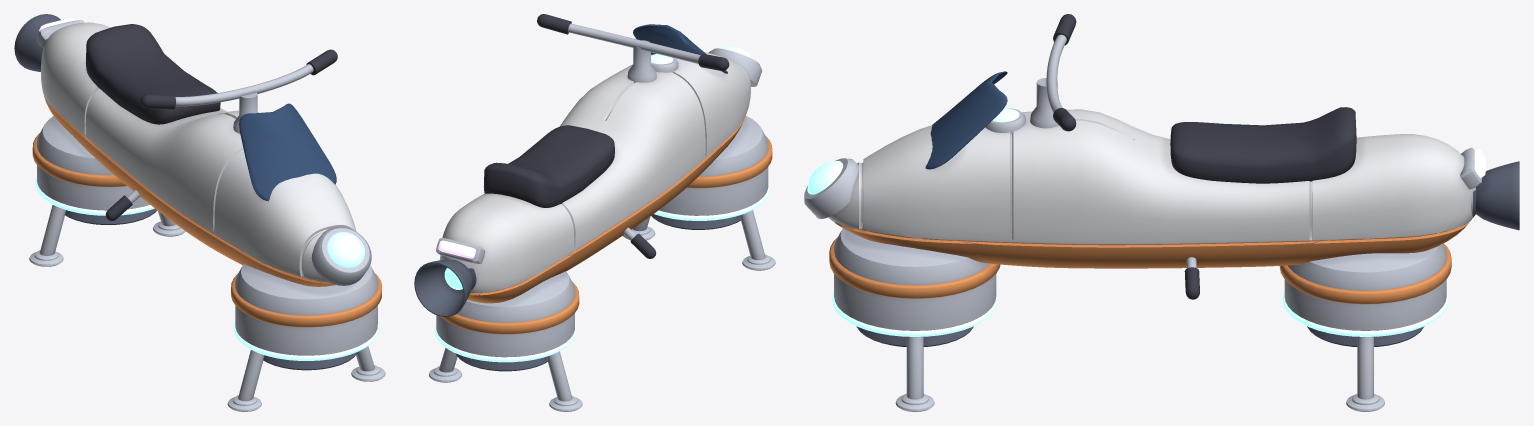
The model's file is hover-bike.glb.
The picture shows the model from 3 angles, left to right: view 1: azimuth 30°, elevation 25°; view 2: azimuth 150°, elevation 25°; view 3: azimuth 270°, elevation 25°; orthographic projection. The views are drawn at different scales.
Visible parts, largest first — view 1: hover-bike_body, hover-bike_hover_glow, hover-bike_headlight_glow; view 2: hover-bike_body, hover-bike_hover_glow, hover-bike_taillight_glow; view 3: hover-bike_body, hover-bike_hover_glow, hover-bike_headlight_glow.
Boxes of the visible parts, left/top/right/bottom form: hover-bike_body: left=14, top=14, right=385, bottom=411; hover-bike_hover_glow: left=35, top=176, right=379, bottom=360; hover-bike_headlight_glow: left=327, top=232, right=364, bottom=267; hover-bike_body: left=414, top=14, right=775, bottom=411; hover-bike_hover_glow: left=434, top=183, right=769, bottom=362; hover-bike_taillight_glow: left=438, top=240, right=475, bottom=258; hover-bike_body: left=804, top=14, right=1519, bottom=411; hover-bike_hover_glow: left=832, top=292, right=1448, bottom=336; hover-bike_headlight_glow: left=807, top=161, right=843, bottom=194.
Bounding box in the file's own units: 0.8537 × 1.13 × 2.38.
Materials: 5 (1 with a texture image).
